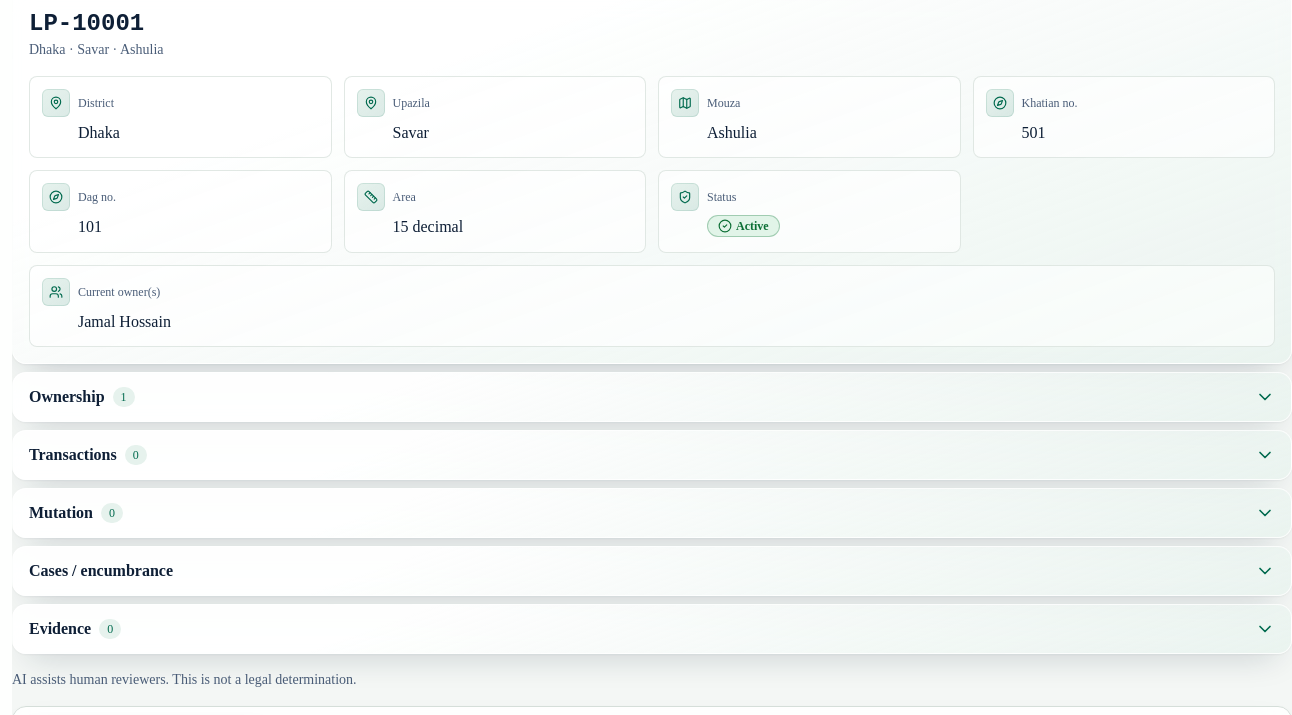
ResultView › renders LP-10001: single owner and empty transactions state
(page scrolled)
Check: the text "LP-10001" is shown, box top-left (29, 8), bottom-right (164, 40)
Click the heading with test id "section-toggle" at {"x": 67, "y": 396}, box top-left (29, 387), bottom-right (1275, 407)
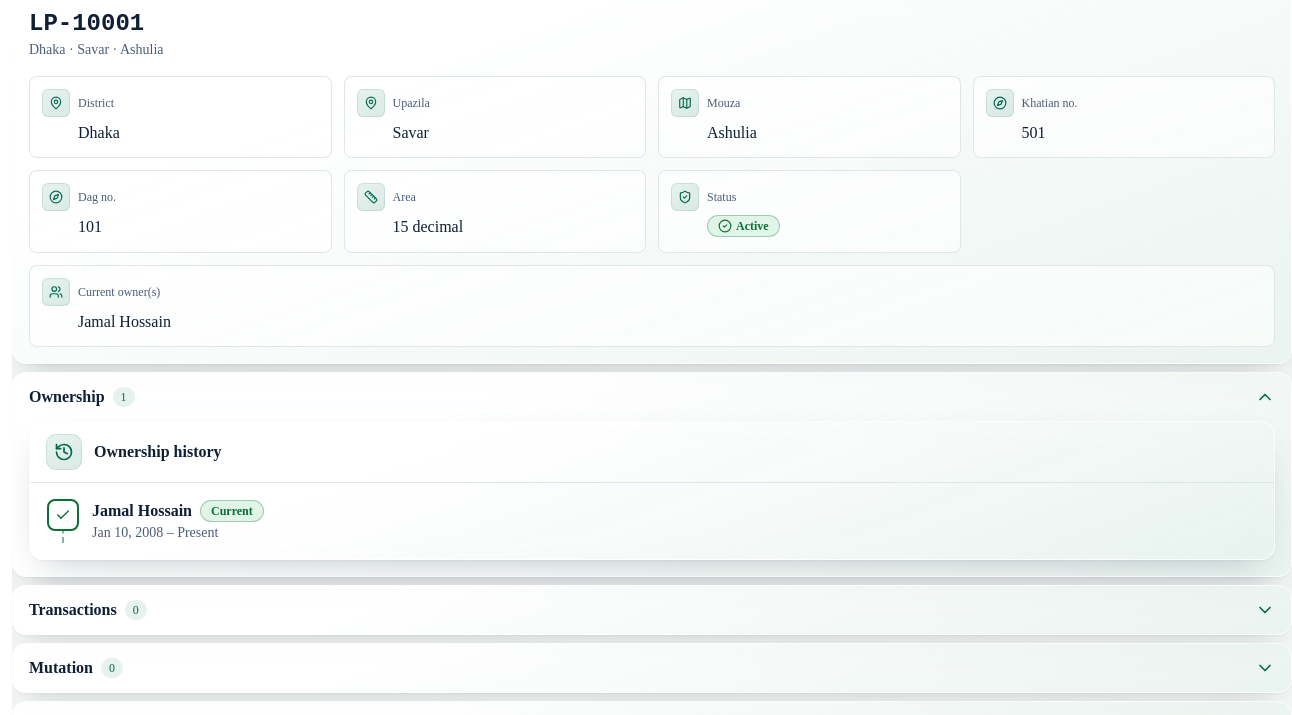
Check: the list item "Jamal Hossain Current Jan 10, 2008 – Present" is shown, box top-left (62, 499), bottom-right (1258, 543)
Click the heading with test id "section-toggle" at {"x": 73, "y": 609}, box top-left (29, 600), bottom-right (1275, 620)
(page scrolled)
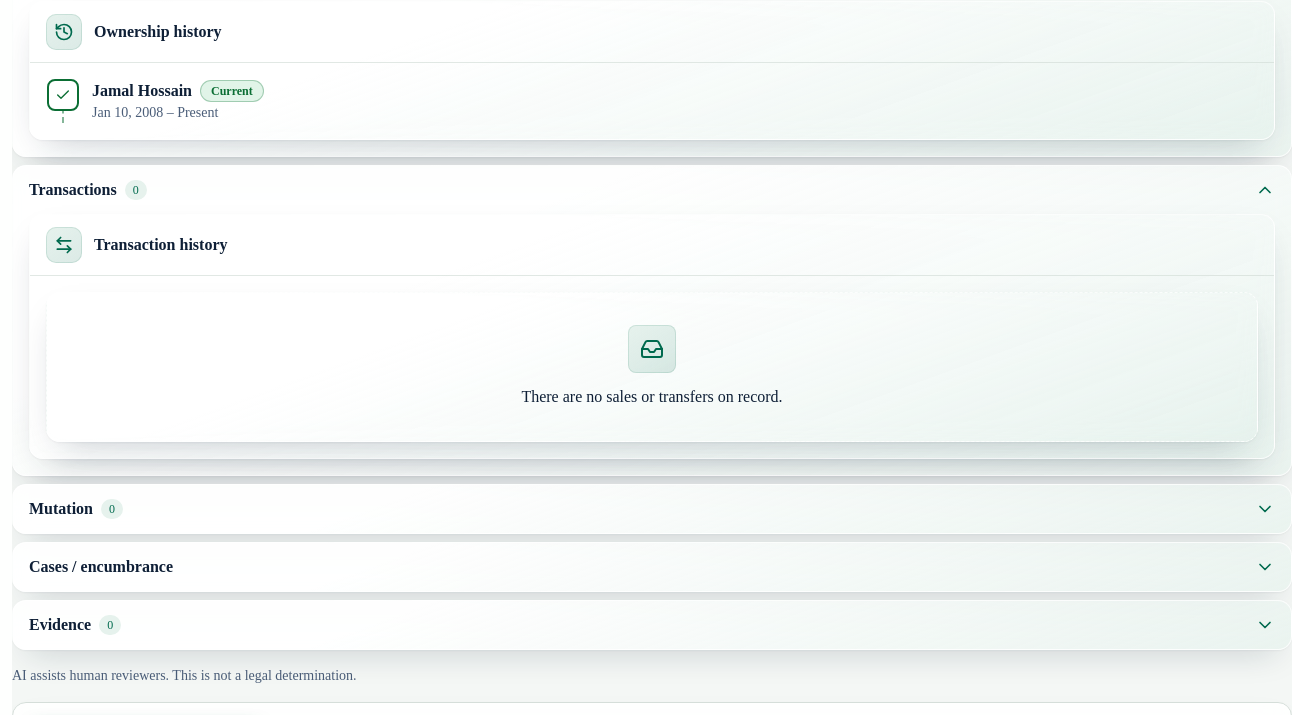
Check: the text "There are no sales or transfers on record." is shown, box top-left (521, 385), bottom-right (783, 409)
